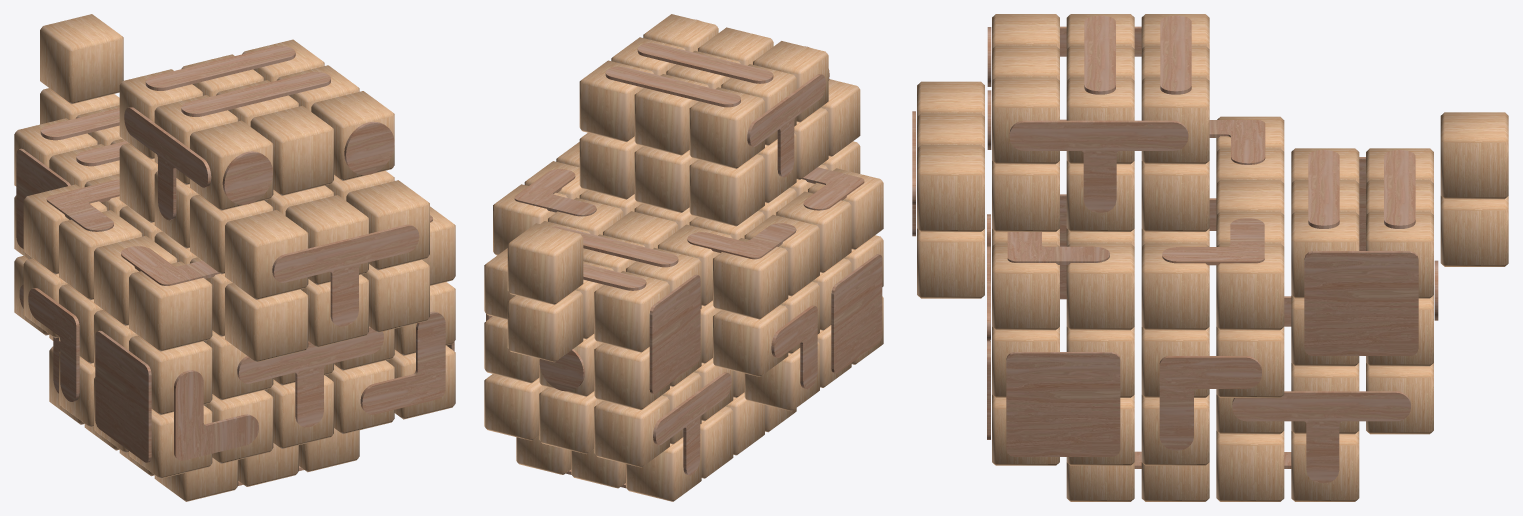
File: level_105.fbx
3 renders of one model, left to right at view 1: azimuth 30°, elevation 25°; view 2: azimuth 150°, elevation 25°; view 3: azimuth 270°, elevation 25°, orthographic. The views are drawn at different scales.
Parts seen in each view (by area): view 1: Cube.024, obj_obs_T.009, obj_obs_square.002, Cube.092, Cube.009, Cube.003, Cube.150, obj_obs_T.005, obj_obs_L.001, obj_obs_L.008, Cube.002, Cube.007 (+55 smaller); view 2: Cube.024, obj_obs_square.002, obj_obs_square.001, Cube.107, Cube.022, Cube.133, Cube.163, Cube.058, Cube.077, Cube.118, Cube.161, Cube.160 (+58 smaller); view 3: obj_obs_square.003, obj_obs_square.004, obj_obs_T.003, obj_obs_T.001, Cube.024, Cube.007, Cube.099, obj_obs_L.003, Cube.104, Cube.109, Cube.094, Cube.131 (+51 smaller).
Part boxes in pixels (x1,y1,x2,y2): Cube.024: (40, 14, 123, 104); obj_obs_T.009: (272, 224, 419, 326); obj_obs_square.002: (95, 330, 151, 462); Cube.092: (129, 261, 212, 351); Cube.009: (225, 210, 308, 299); Cube.003: (225, 283, 308, 362); Cube.150: (250, 105, 333, 195); obj_obs_T.005: (237, 326, 383, 427); obj_obs_L.001: (174, 370, 258, 460); obj_obs_L.008: (360, 311, 445, 414); Cube.002: (361, 259, 429, 332); Cube.007: (346, 180, 429, 270); Cube.024: (507, 223, 583, 304); obj_obs_square.002: (831, 254, 882, 373); obj_obs_square.001: (649, 274, 700, 393); Cube.107: (713, 238, 788, 319); Cube.022: (507, 290, 583, 362); Cube.133: (689, 154, 764, 226); Cube.163: (689, 87, 764, 168); Cube.058: (594, 395, 669, 467); Cube.077: (713, 305, 788, 376); Cube.118: (594, 271, 669, 352); Cube.161: (579, 60, 654, 141); Cube.160: (634, 74, 709, 155); obj_obs_square.003: (1304, 251, 1418, 355); obj_obs_square.004: (1006, 352, 1120, 456); obj_obs_T.003: (1009, 120, 1188, 212); obj_obs_T.001: (1232, 391, 1410, 482); Cube.024: (1440, 112, 1508, 199); Cube.007: (917, 145, 984, 231); Cube.099: (1066, 243, 1134, 330); obj_obs_L.003: (1159, 356, 1261, 450); Cube.104: (1141, 243, 1209, 330); Cube.109: (1216, 243, 1284, 330); Cube.094: (992, 243, 1059, 330); Cube.131: (1141, 161, 1209, 231).
Size of the model in its own units: 11.1 by 13.24 by 17.55.
